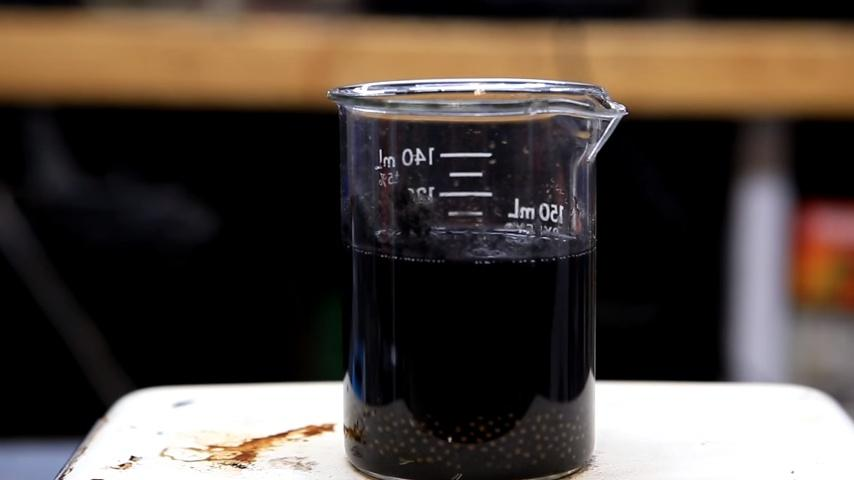Beaker: (323, 75, 628, 477)
